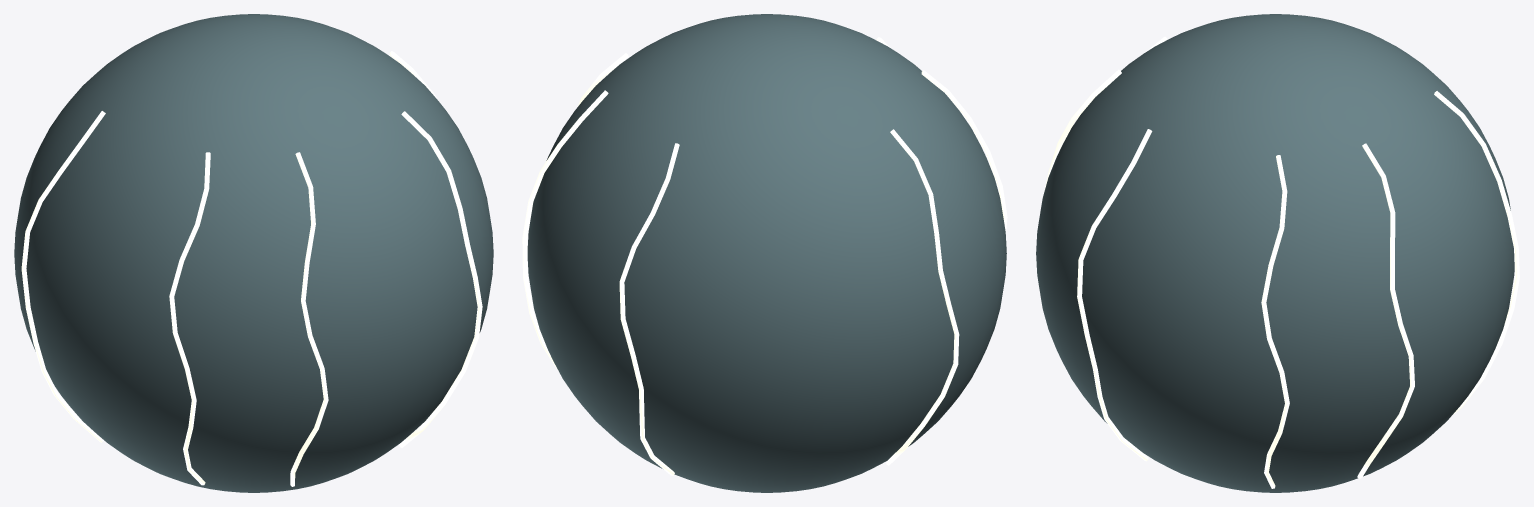
The model's file is planet_09.glb.
The picture shows the model from 3 angles, left to right: view 1: azimuth 30°, elevation 25°; view 2: azimuth 150°, elevation 25°; view 3: azimuth 270°, elevation 25°; orthographic projection.
Visible parts, largest first — view 1: planet_09_painted_mesh; view 2: planet_09_painted_mesh; view 3: planet_09_painted_mesh.
Boxes of the visible parts, <box> form: planet_09_painted_mesh: <box>14,14,493,492</box>; planet_09_painted_mesh: <box>522,14,1007,492</box>; planet_09_painted_mesh: <box>1036,14,1519,492</box>.
Size of the model in its own units: 2.03 by 2 by 2.02.
